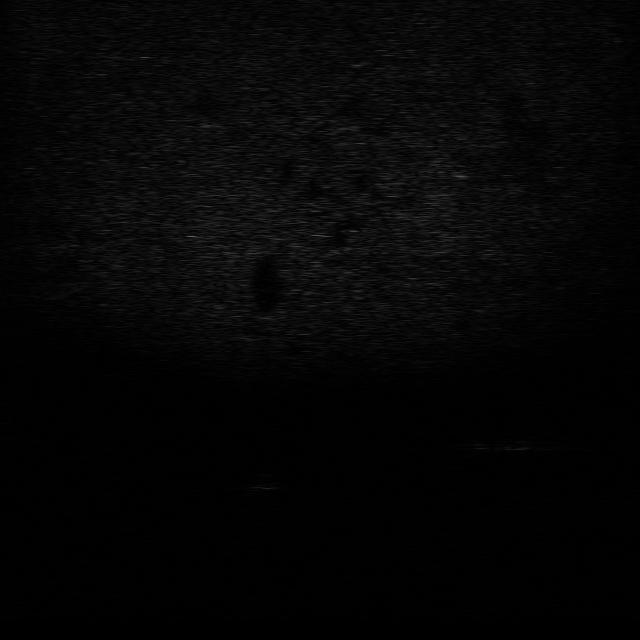ball: (244, 471, 288, 494)
human body: (464, 428, 561, 458)
